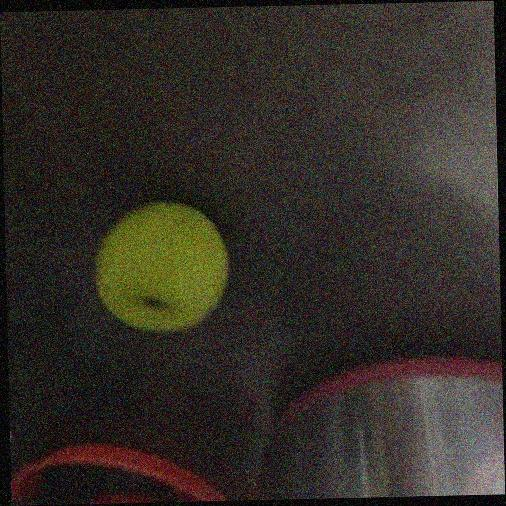green apple: (93, 198, 234, 335)
